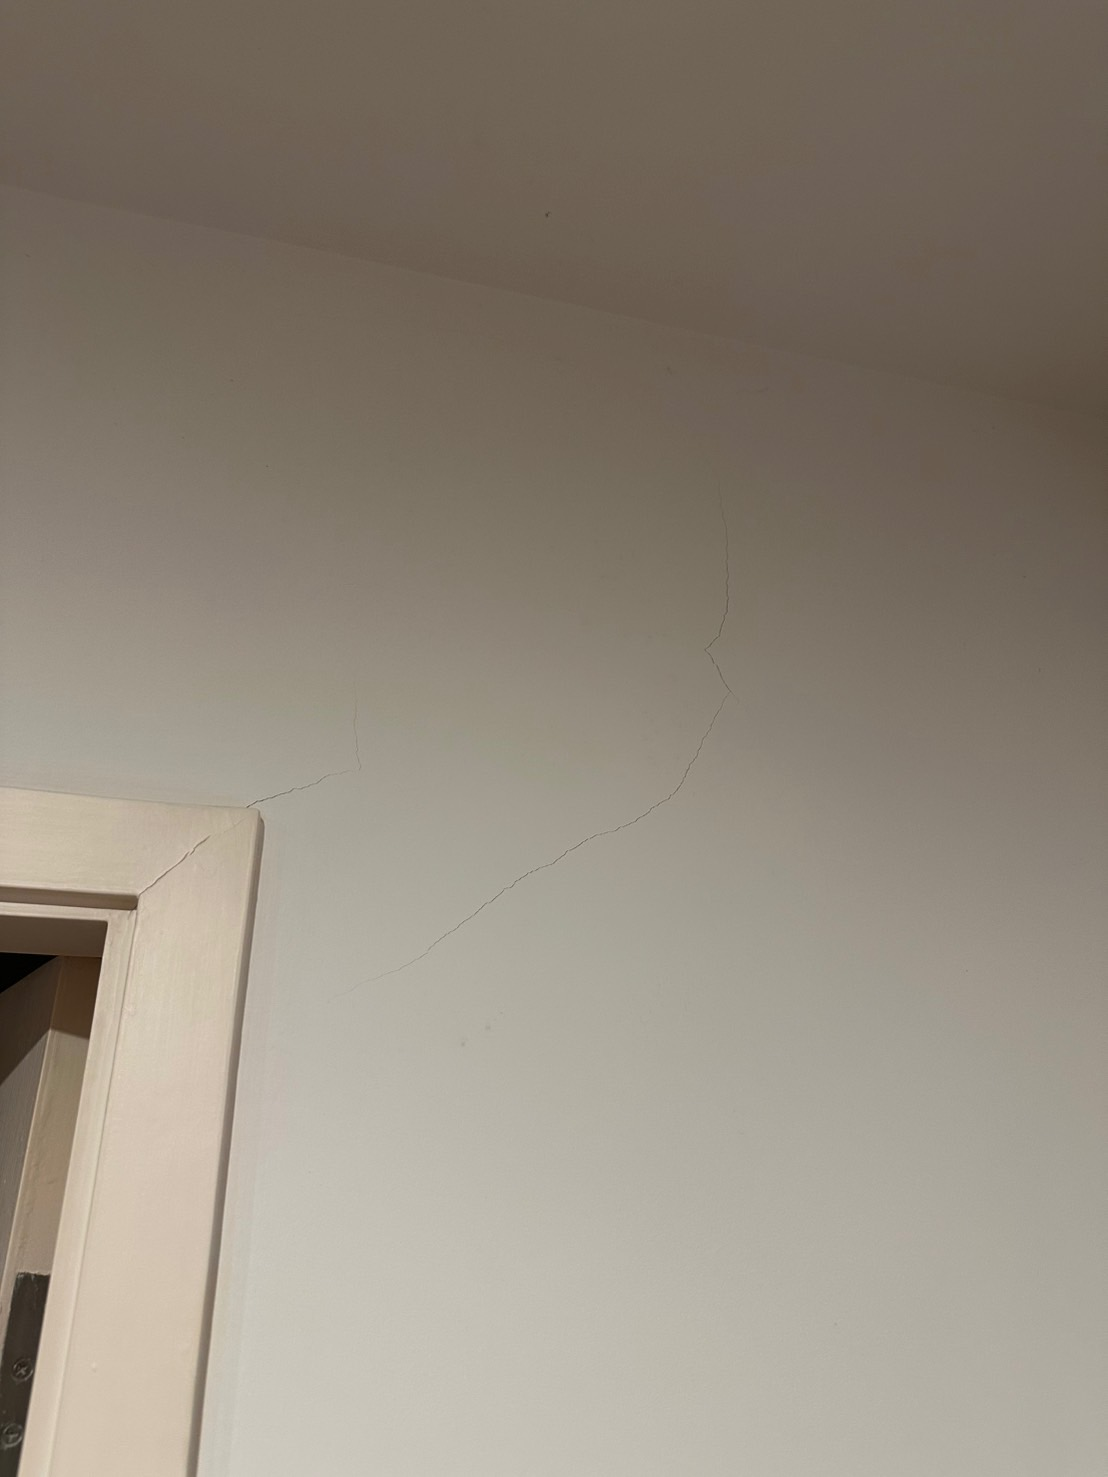Low: (196, 338, 795, 1055)
